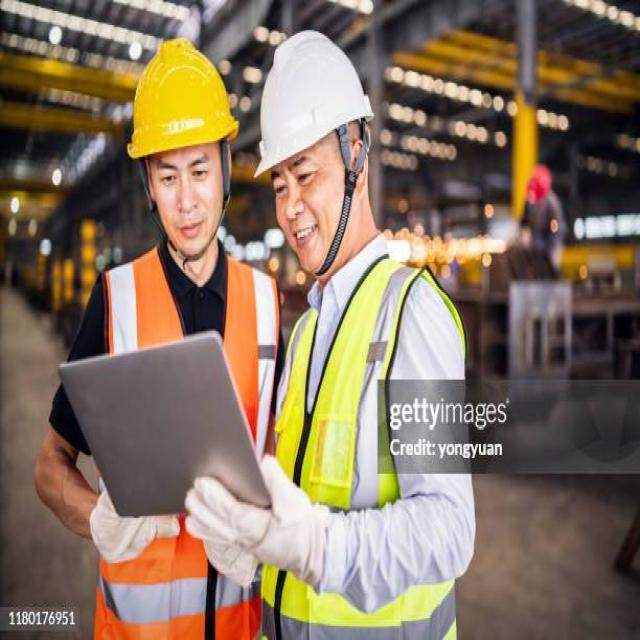Gloves: (180, 444, 330, 598), (84, 480, 188, 570)
Hard Hat: (251, 26, 381, 180), (122, 33, 245, 166)
Reflective Vest: (266, 239, 476, 640), (80, 242, 284, 640)
